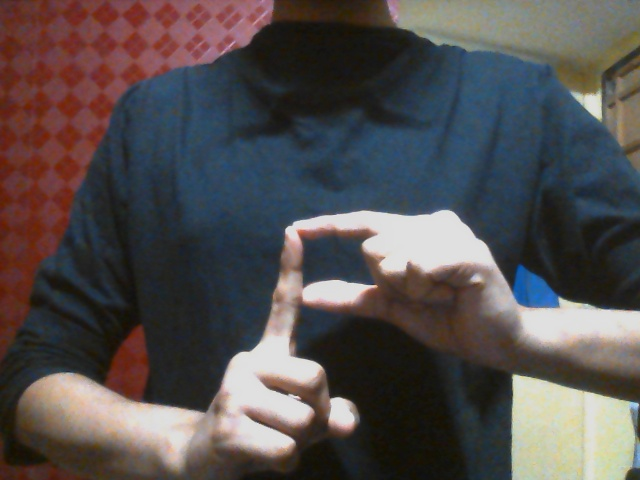P: (200, 210, 479, 479)
